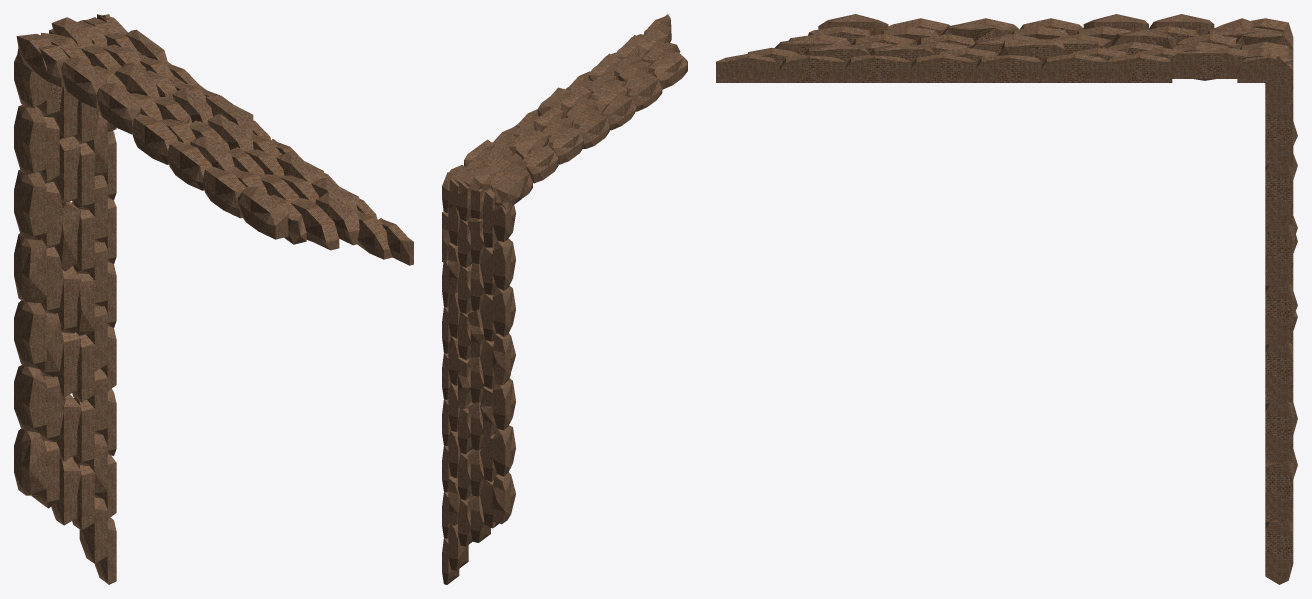
File: sandbagwall1.obj
3 views of the same model, side by side, from view 1: azimuth 30°, elevation 25°; view 2: azimuth 150°, elevation 25°; view 3: azimuth 270°, elevation 25° (orthographic). The views are drawn at different scales.
Parts seen in each view (by area): view 1: 0Sandbags_; view 2: 0Sandbags_; view 3: 0Sandbags_.
Boxes of the visible parts, box(x1,y1,x2,y2) form: 0Sandbags_: box(14, 14, 413, 584); 0Sandbags_: box(442, 14, 687, 584); 0Sandbags_: box(716, 14, 1297, 584).
Bounding box in the file's own units: 0.3281 × 1.98 × 1.95.
Materials: 1 (1 with a texture image).
